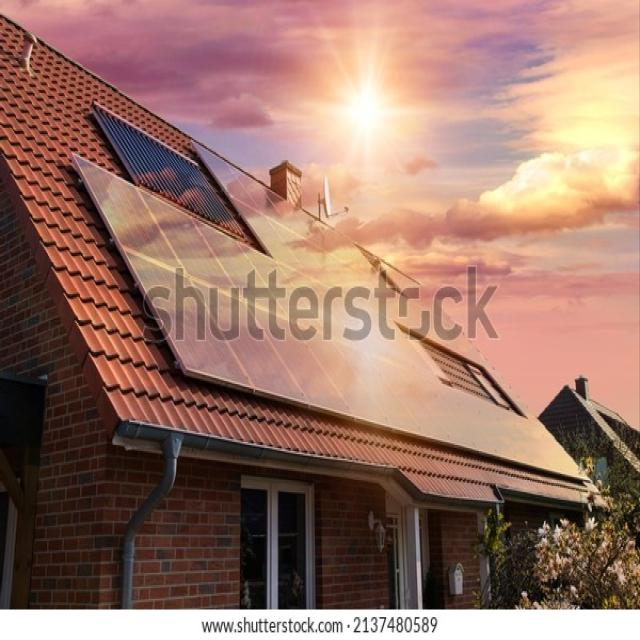clean-solar-panel: (74, 143, 580, 479)
